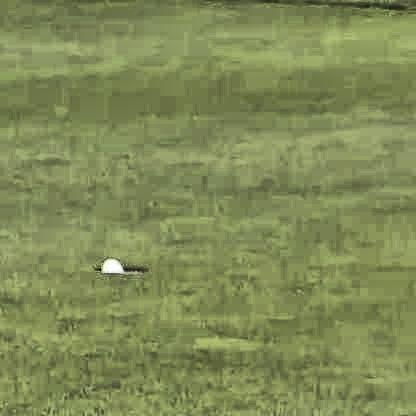golfball: (98, 254, 121, 272)
